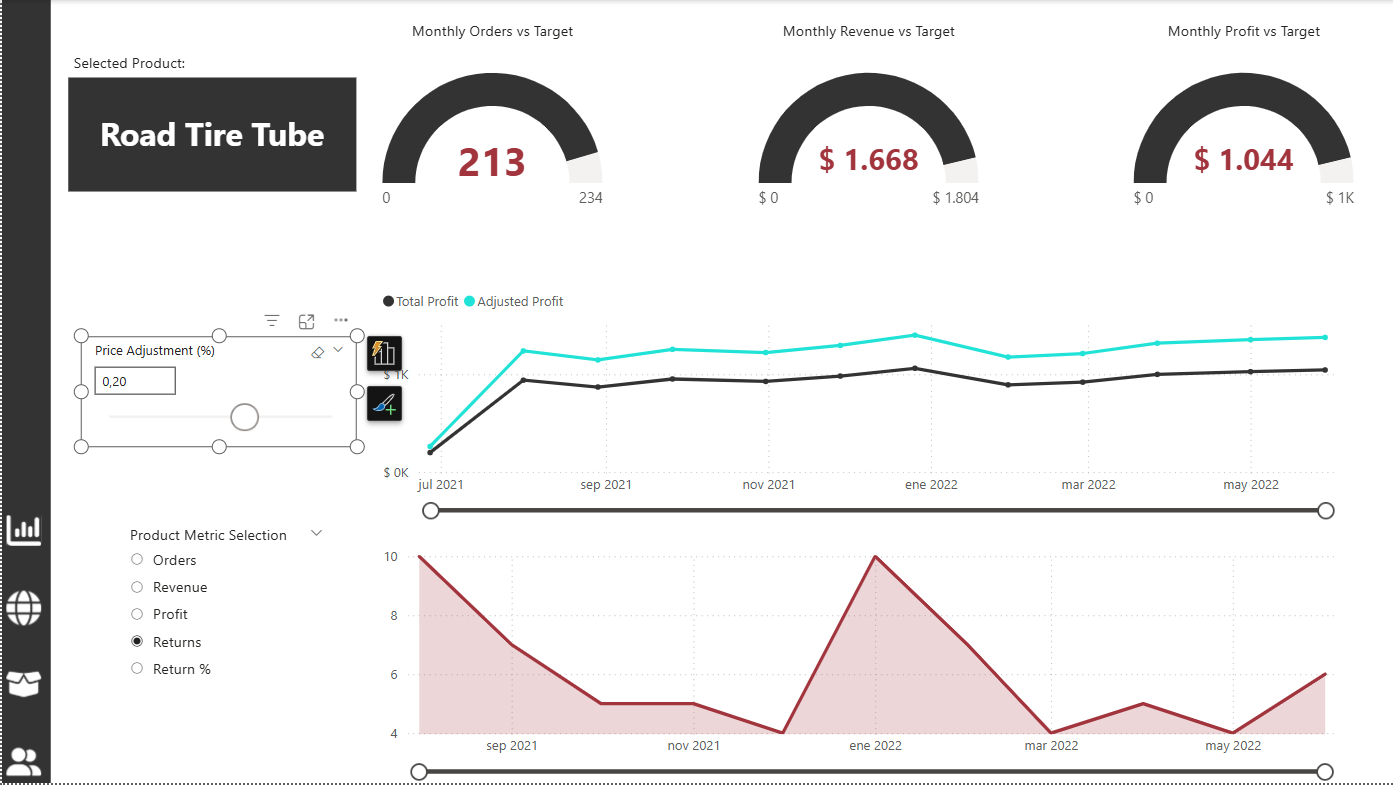

This screenshot's page, from the dashboard's own definition file:
{"tool":"powerbi","page":{"name":"Product Detail","canvas":[1280,720],"ordinal":2},"visuals":[{"type":"shape","title":"Left Nav Background","box":[0,0,45,720.2],"z":0},{"type":"actionButton","box":[0,467.5,45,40],"z":0,"group":"g1"},{"type":"gauge","title":"Monthly Orders vs Target","fields":{"Y":["Measure Table.Total Orders"],"MaxValue":["Measure Table.Order Target"]},"box":[345,18.8,212.5,208.8],"z":1000},{"type":"actionButton","box":[0,609.2,45,40],"z":1000,"group":"g1"},{"type":"gauge","title":"Monthly Revenue vs Target","fields":{"Y":["Measure Table.Total Revenue"],"MaxValue":["Measure Table.Revenue Target"]},"box":[690,18.8,212.5,208.8],"z":2000},{"type":"actionButton","box":[0,680,45,40],"z":2000,"group":"g1"},{"type":"gauge","title":"Monthly Profit vs Target","fields":{"Y":["Measure Table.Total Profit"],"MaxValue":["Measure Table.Profit Target"]},"box":[1035,18.8,212.5,208.8],"z":3000},{"type":"actionButton","box":[0,538.3,45,40],"z":3000,"group":"g1"},{"type":"lineChart","title":"Profit Trending","fields":{"Category":["Calendar Lookup.Date Hierarchy.Start of Year","Calendar Lookup.Date Hierarchy.Start of Month","Calendar Lookup.Date Hierarchy.Start of Week","Calendar Lookup.Date Hierarchy.Date"],"Y":["Measure Table.Total Profit","Measure Table.Adjusted Profit"]},"box":[345,257.5,902.5,222.5],"z":4000},{"type":"areaChart","title":"Returns Trending","fields":{"Y":["Measure Table.Total Returns"],"Category":["Calendar Lookup.Date Hierarchy.Start of Year","Calendar Lookup.Date Hierarchy.Start of Month","Calendar Lookup.Date Hierarchy.Start of Week","Calendar Lookup.Date Hierarchy.Date"]},"box":[345,497.5,902.5,222.5],"z":5000},{"type":"card","fields":{"Values":["Min(Product Lookup.ProductName)"]},"box":[61.2,71.2,265,105],"z":6000},{"type":"textbox","box":[61.2,43.8,145,37.5],"z":7000},{"type":"group","id":"g1","title":"Navigation Buttons","box":[0,467.5,45,252.5],"z":8000},{"type":"slicer","fields":{"Values":["Price  (%).Price  (%)"]},"box":[72.5,308.8,253.8,102.5],"z":9000},{"type":"slicer","fields":{"Values":["Product Metric Selection.Product Metric Selection"]},"box":[105,476.2,202.5,166.2],"z":10000}]}

Visuals, with their boxes on the page's 1280x720 design canvas (x1, y1, x2, y2). These are canvas units, not pixel positions in the 1393x786 screenshot, which may show the page scaled, cropped or inside an application window:
"Left Nav Background" shape: 0, 0, 45, 720
actionButton: 0, 468, 45, 508
"Monthly Orders vs Target" gauge: 345, 19, 558, 228
actionButton: 0, 609, 45, 649
"Monthly Revenue vs Target" gauge: 690, 19, 902, 228
actionButton: 0, 680, 45, 720
"Monthly Profit vs Target" gauge: 1035, 19, 1248, 228
actionButton: 0, 538, 45, 578
"Profit Trending" lineChart: 345, 258, 1248, 480
"Returns Trending" areaChart: 345, 498, 1248, 720
card - Min(Product Lookup.ProductName): 61, 71, 326, 176
textbox: 61, 44, 206, 81
"Navigation Buttons" group: 0, 468, 45, 720
slicer - Price  (%).Price  (%): 72, 309, 326, 411
slicer - Product Metric Selection.Product Metric Selection: 105, 476, 308, 642
